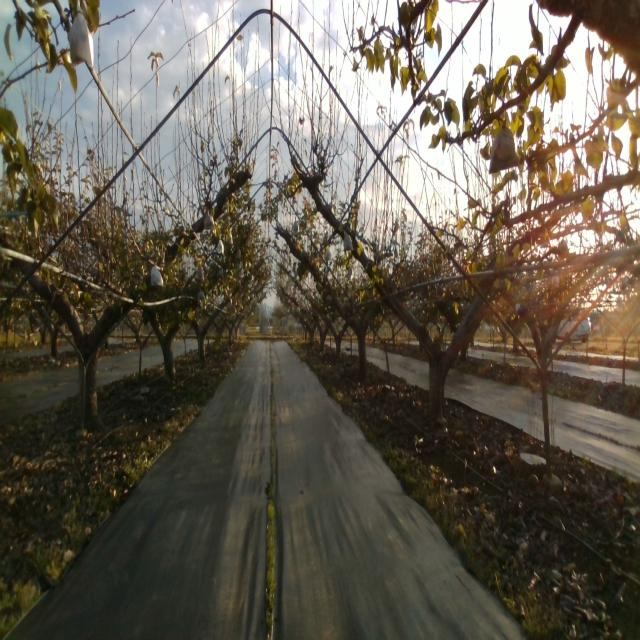pearbags: (488, 118, 520, 176), (68, 13, 92, 68), (150, 261, 164, 288), (343, 231, 354, 252), (203, 209, 214, 230)
